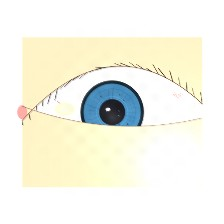pinguecula_lesion: (44, 93, 85, 125)
